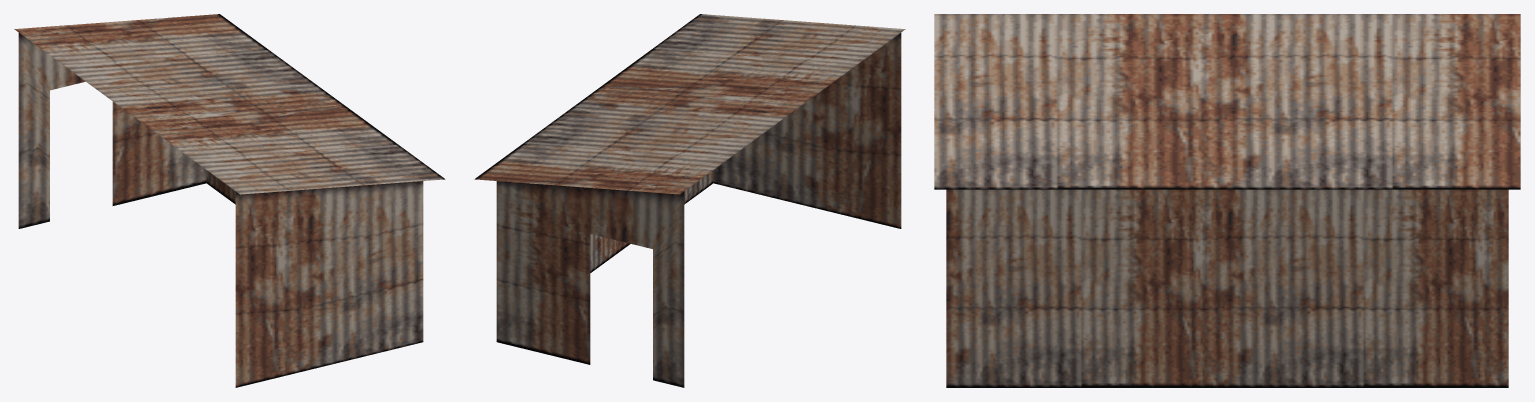
The model's file is Leanto B.glb.
3 views of the same model, side by side, from view 1: azimuth 30°, elevation 25°; view 2: azimuth 150°, elevation 25°; view 3: azimuth 270°, elevation 25° (orthographic). The views are drawn at different scales.
Visible parts, largest first — view 1: Leanto B; view 2: Leanto B; view 3: Leanto B.
Part boxes in pixels (<box>): Leanto B: <box>14,14,445,387</box>; Leanto B: <box>474,14,905,387</box>; Leanto B: <box>934,14,1520,387</box>.
Size of the model in its own units: 3.29 by 3 by 6.25.
Materials: 1 (1 with a texture image).
